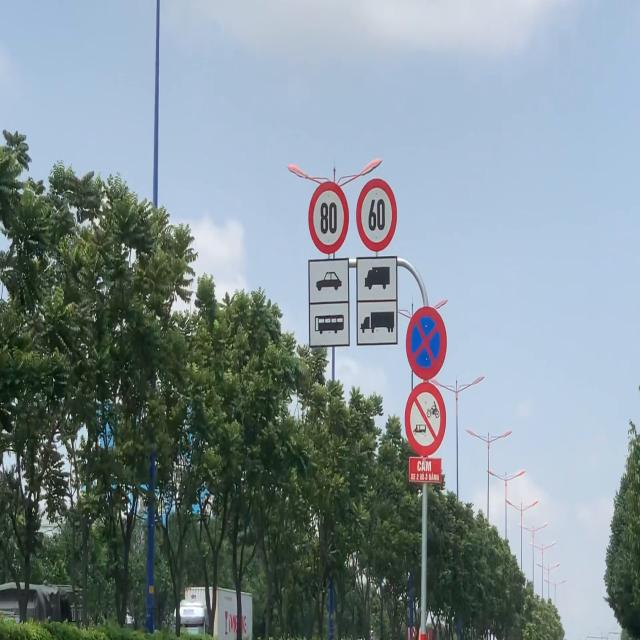Cam con lai: (405, 381, 446, 457)
Cam dung va do: (405, 304, 448, 381)
Toc do toi da: (307, 180, 349, 258), (357, 180, 398, 254)
